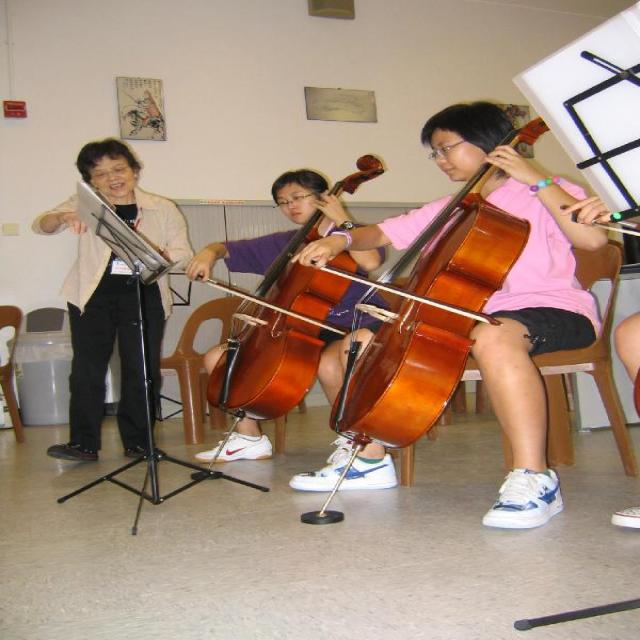cello: (330, 116, 540, 452), (202, 154, 386, 416)
